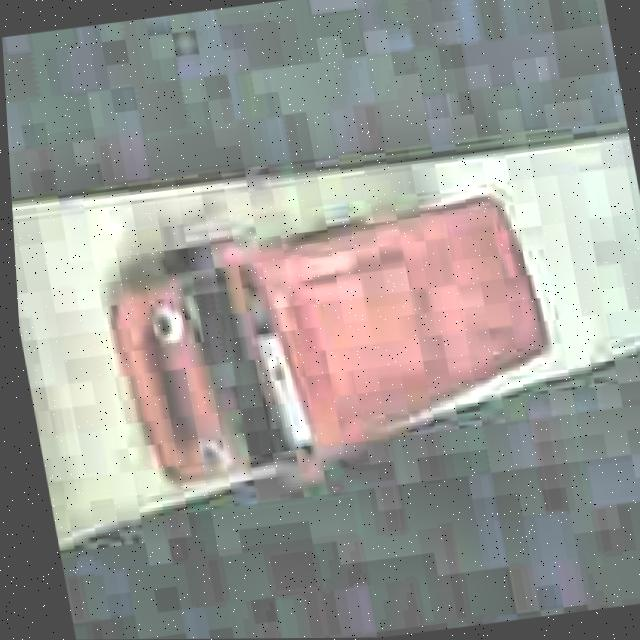bus: (90, 188, 572, 503)
